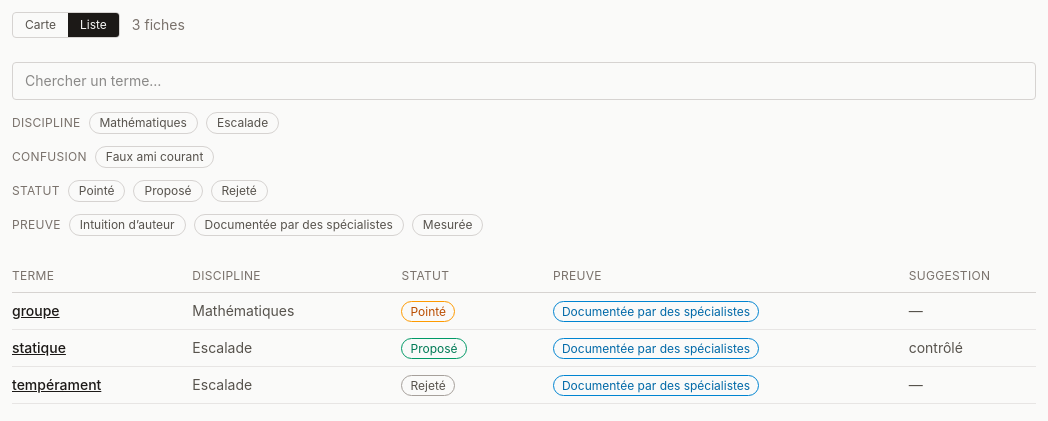
Test: Corpus — filtres et URL › filtre par recherche texte sans tenir compte des accents
Type "tempe" into the search field at (524, 81), box top-left (12, 62), bottom-right (1036, 100)
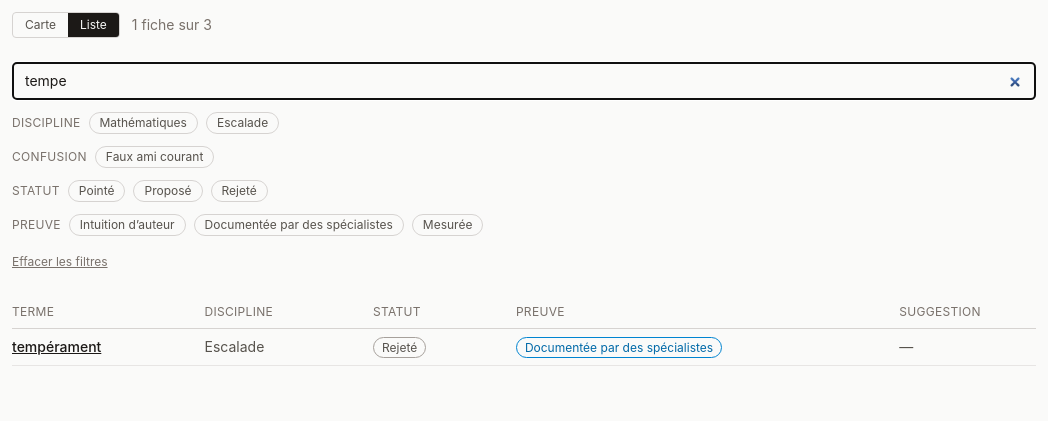
Expected: the link "tempérament" is shown, top-left (12, 338), bottom-right (101, 355)
Expected: the link "groupe" is gone
